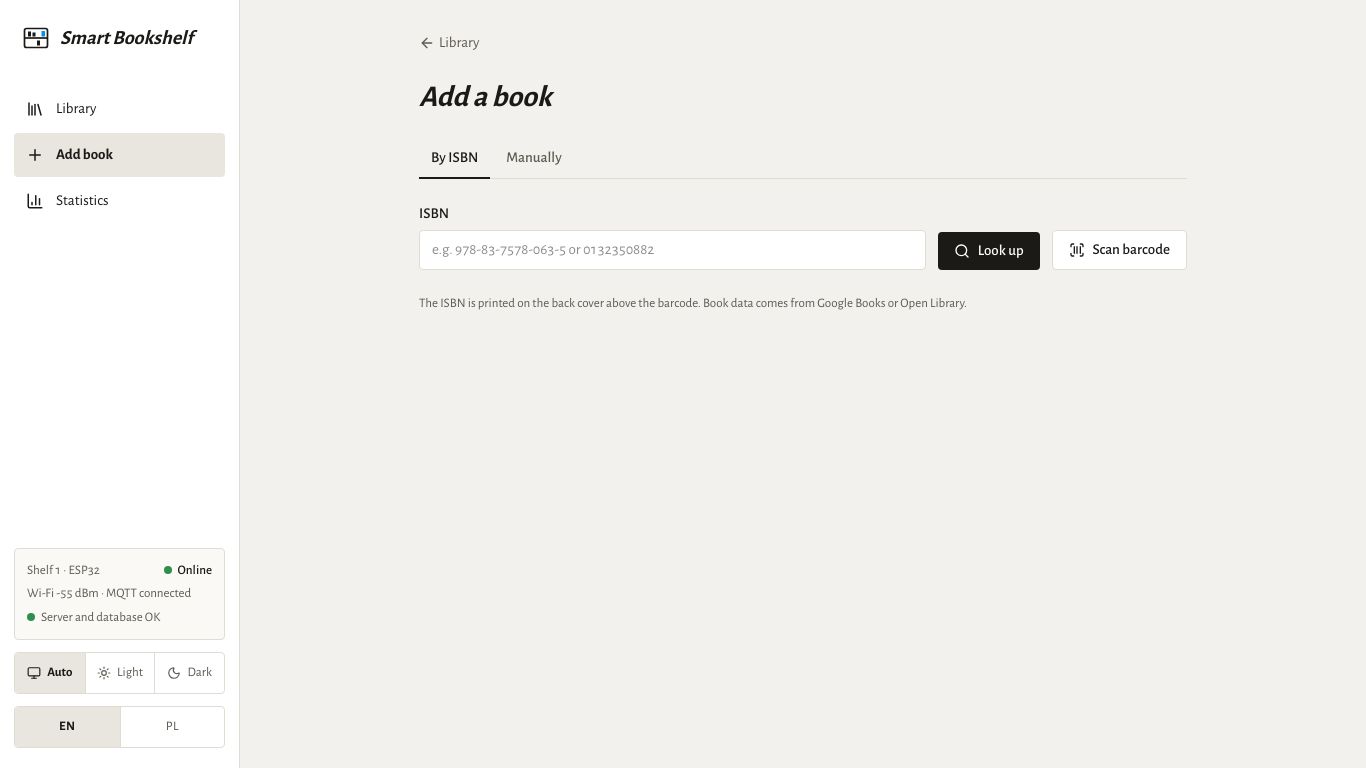
Test: barcode scanning on the add-book page › looks up the scanned ISBN and releases the camera
The image size is (1366, 768).
Click the button "Scan barcode" at (1119, 250), box x1=1052 y1=230 x2=1187 y2=270
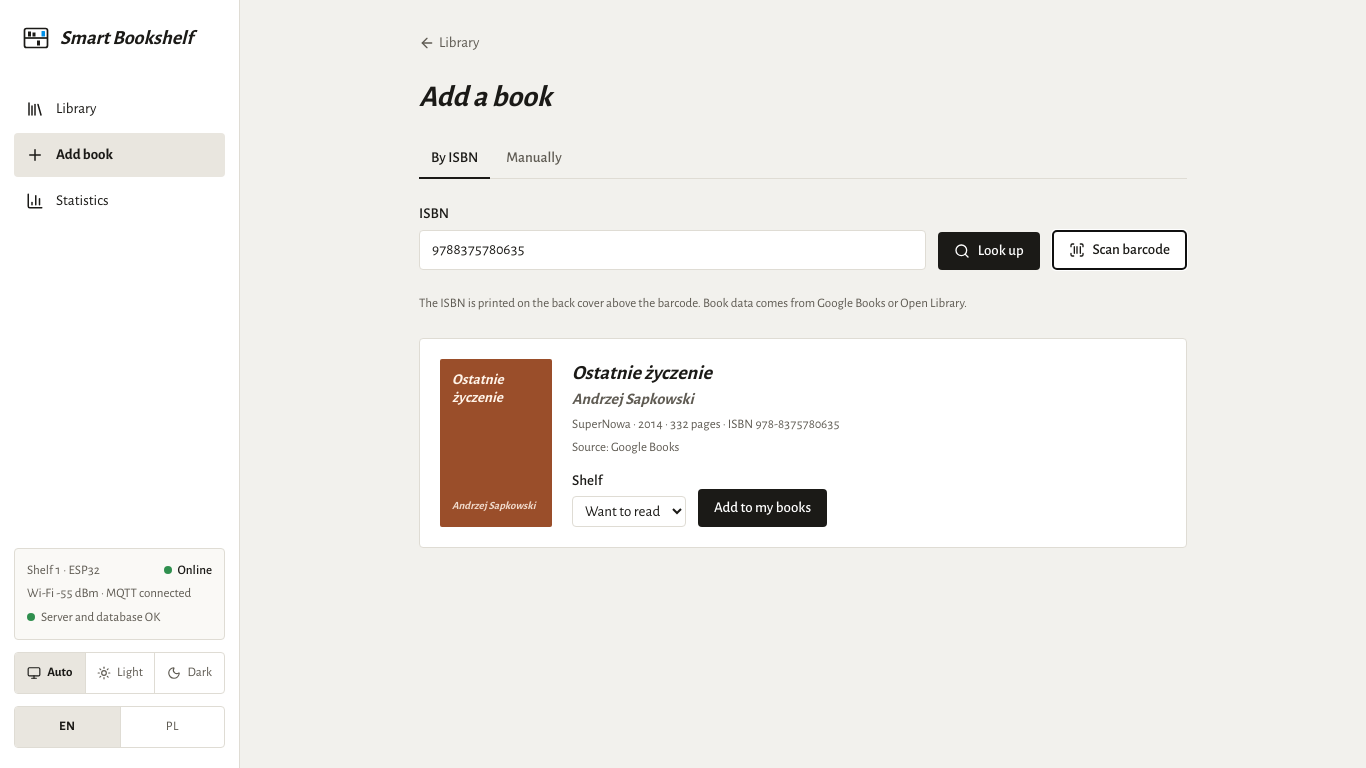
Expected: the heading "Ostatnie życzenie" is shown, x1=572 y1=362 x2=712 y2=382
Expected: the field labelled "ISBN" holds "9788375780635", x1=419 y1=230 x2=926 y2=270
